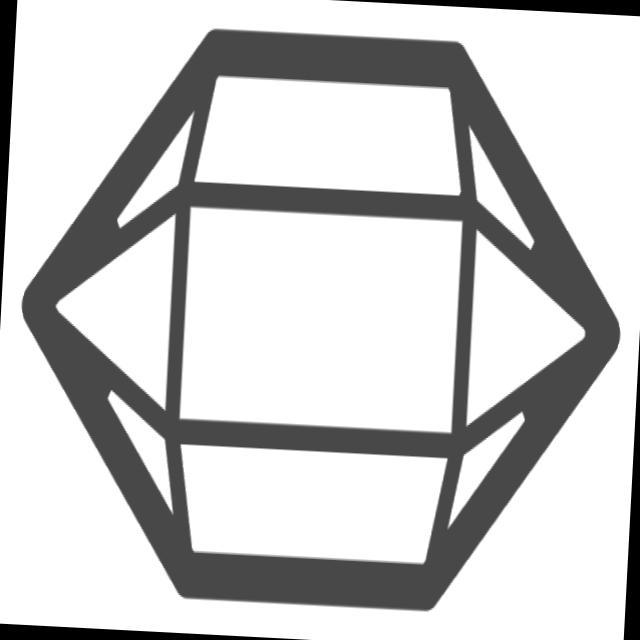crystal: (1, 5, 640, 627)
